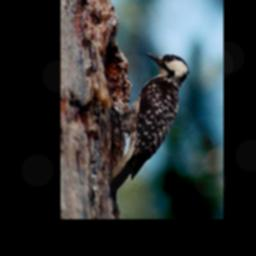Woodpecker: (104, 49, 199, 201)
